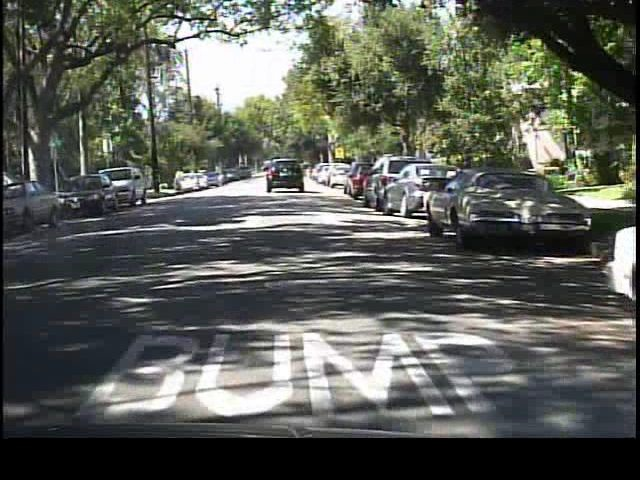person: (173, 168, 187, 197)
